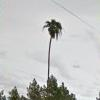Palm tree: (31, 11, 88, 90)
